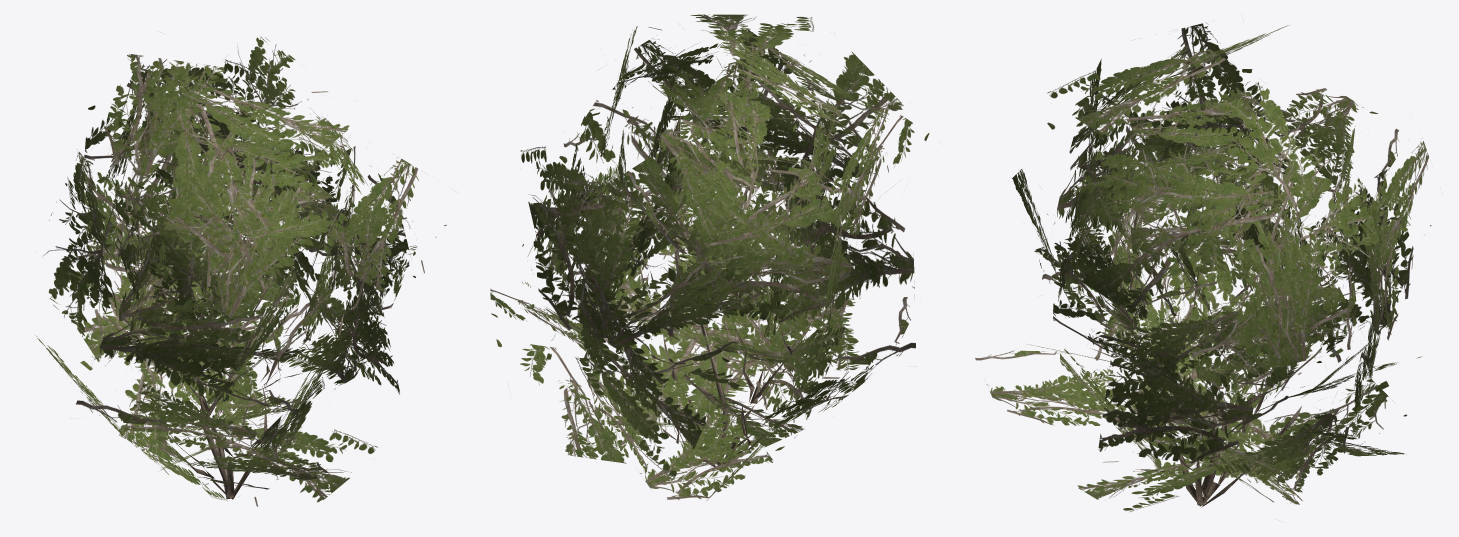
File: shrub_a.glb
3 views of the same model, side by side, from view 1: azimuth 30°, elevation 25°; view 2: azimuth 150°, elevation 25°; view 3: azimuth 270°, elevation 25° (orthographic). The views are drawn at different scales.
Parts seen in each view (by area): view 1: cards, trunk; view 2: cards, trunk; view 3: cards, trunk.
Boxes of the visible parts, <box> form: cards: <box>35,36,446,506</box>; trunk: <box>138,111,353,499</box>; cards: <box>490,14,929,500</box>; trunk: <box>575,58,840,466</box>; cards: <box>975,23,1431,512</box>; trunk: <box>1076,95,1381,507</box>.
Size of the model in its own units: 1.84 by 2.24 by 1.97.
Materials: 2 (2 with a texture image).
